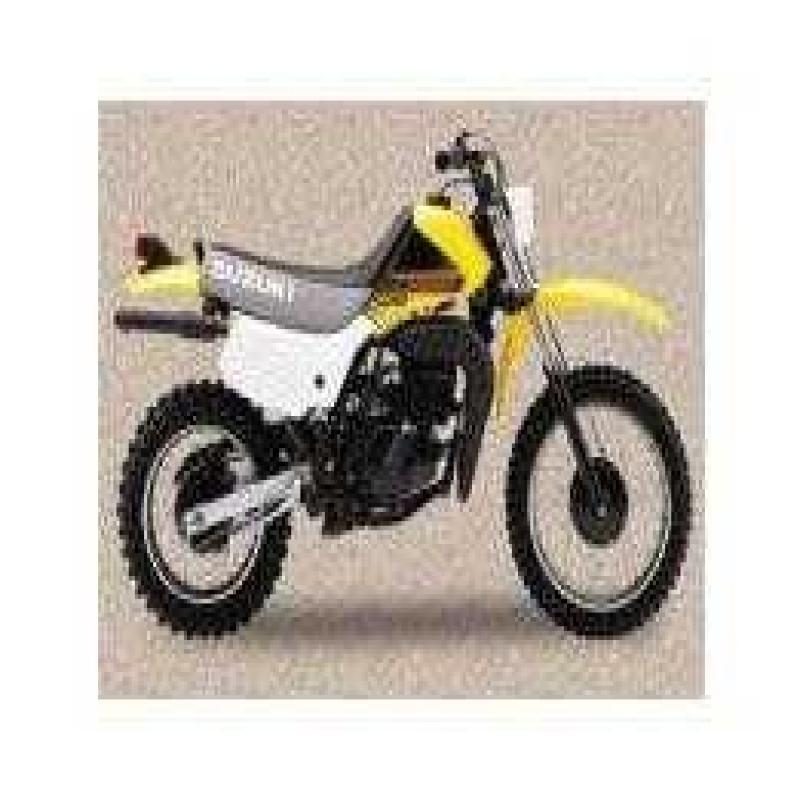bike: (106, 116, 693, 650)
